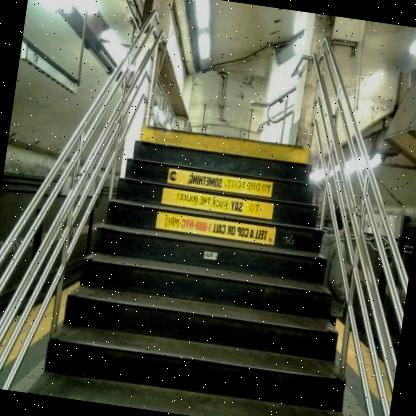stair: (42, 96, 366, 414)
